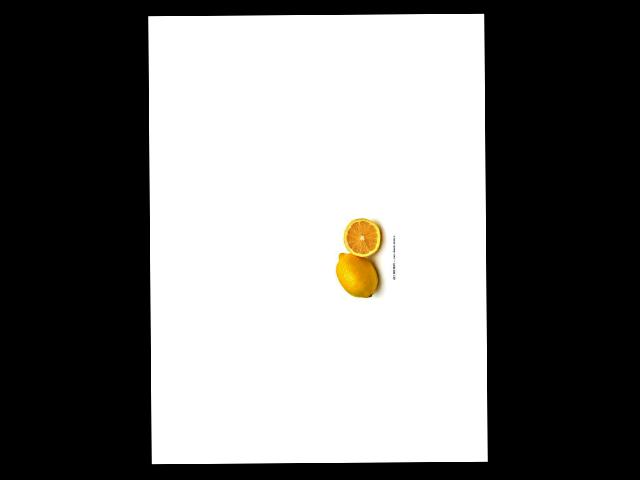lemon: (335, 252, 379, 302)
